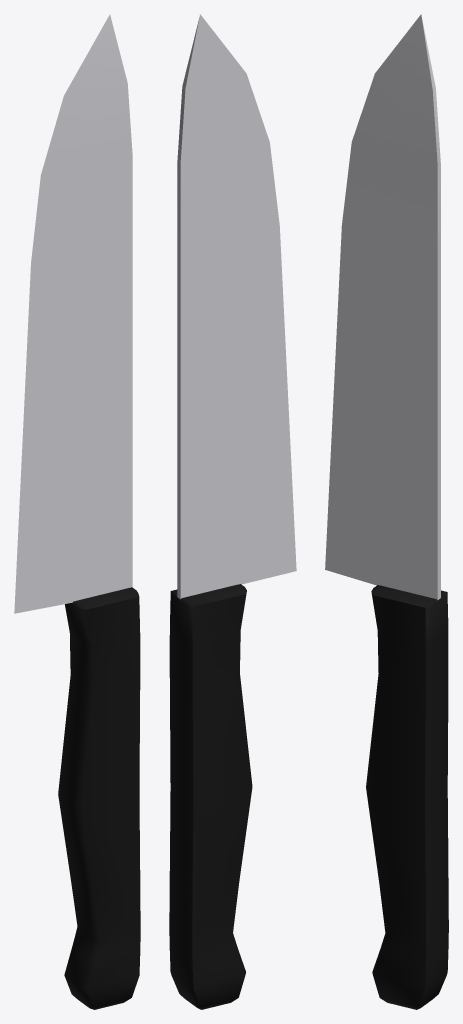
File: Knife.fbx
The picture shows the model from 3 angles, left to right: view 1: azimuth 30°, elevation 25°; view 2: azimuth 210°, elevation 25°; view 3: azimuth 330°, elevation 25°; orthographic projection.
Visible parts, largest first — view 1: Knife; view 2: Knife; view 3: Knife.
Boxes of the visible parts, bbox=[...] form: Knife: bbox=[14, 14, 140, 1009]; Knife: bbox=[169, 14, 296, 1009]; Knife: bbox=[325, 14, 448, 1009].
Size of the model in its own units: 4.1 by 33.39 by 1.4.
